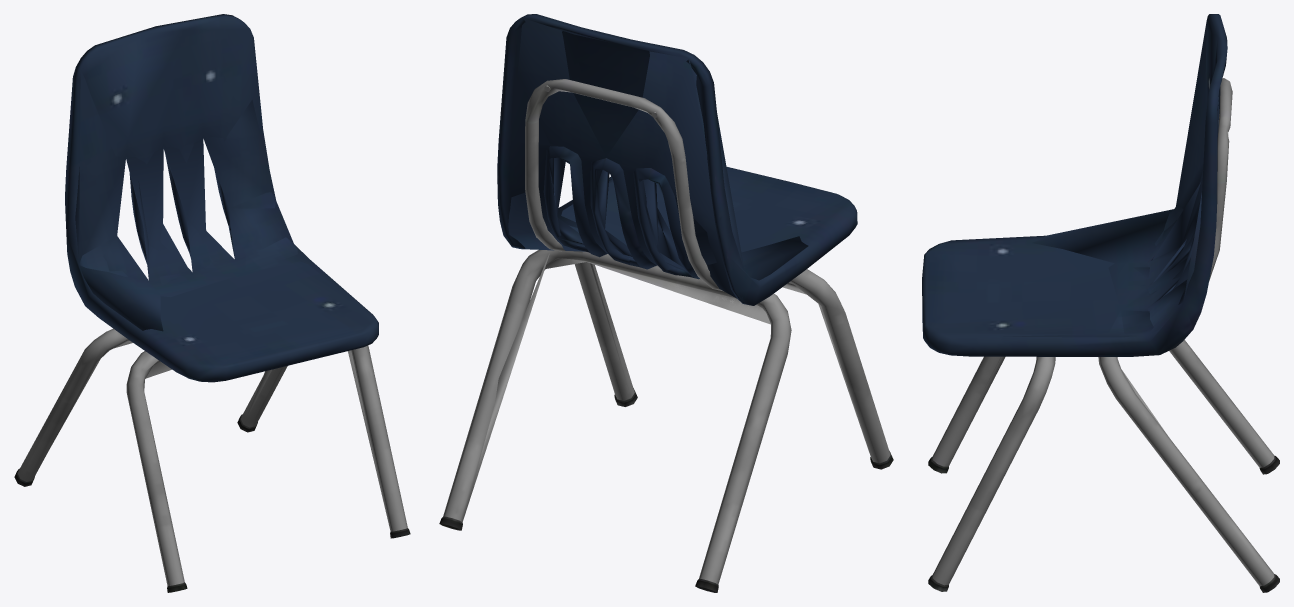
Rendered from SchoolChair_01.glb.
3 renders of one model, left to right at view 1: azimuth 30°, elevation 25°; view 2: azimuth 150°, elevation 25°; view 3: azimuth 270°, elevation 25°, orthographic. The views are drawn at different scales.
Parts seen in each view (by area): view 1: SchoolChair_01, SchoolChair_01_lo; view 2: SchoolChair_01, SchoolChair_01_lo; view 3: SchoolChair_01, SchoolChair_01_lo.
Boxes of the visible parts, x1,y1,x2,y2 form: SchoolChair_01: (14,14,410,592); SchoolChair_01_lo: (52,71,389,525); SchoolChair_01: (439,14,893,592); SchoolChair_01_lo: (444,18,873,526); SchoolChair_01: (922,14,1279,592); SchoolChair_01_lo: (943,22,1263,473).
Bounding box in the file's own units: 0.5658 × 1 × 0.6732.
Materials: 1 (1 with a texture image).
